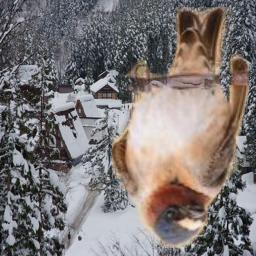Swallow: (112, 7, 249, 248)
